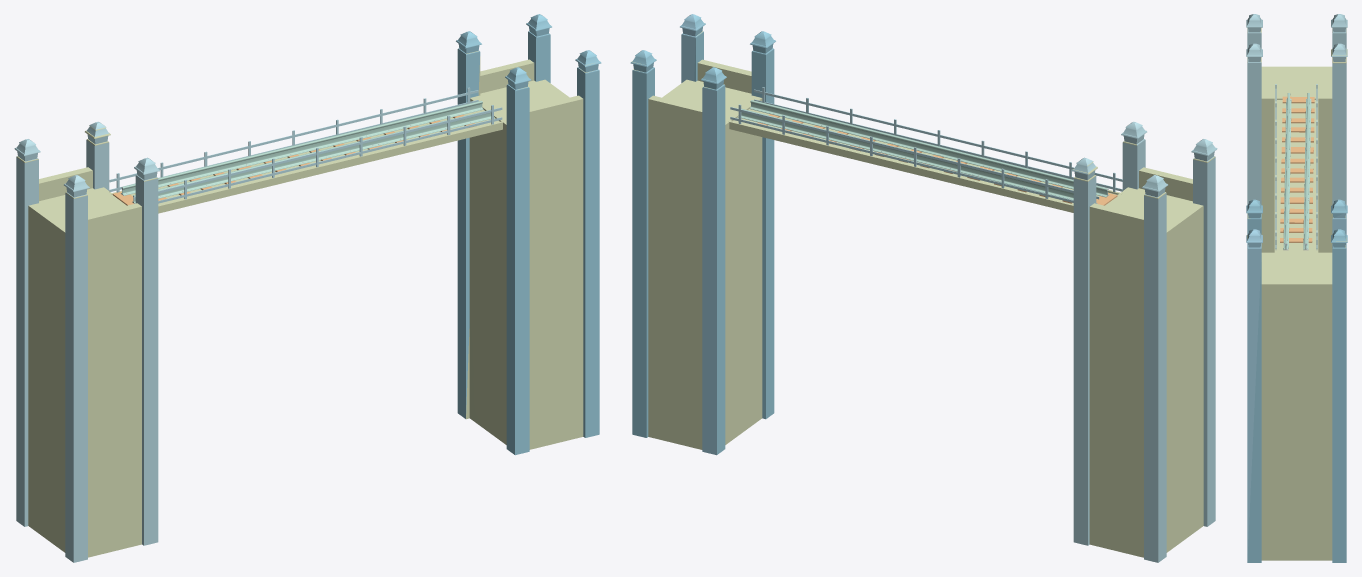
The model's file is aPuenteF.obj.
3 views of the same model, side by side, from view 1: azimuth 30°, elevation 25°; view 2: azimuth 150°, elevation 25°; view 3: azimuth 270°, elevation 25° (orthographic). The views are drawn at different scales.
Parts seen in each view (by area): view 1: pCube2206, pCube2207, pCube50, bridge1, group_3.011, group_3.003, group_3.007, group_2.011, group_2.003, group_2.007; view 2: pCube2206, pCube2207, pCube50, bridge1, group_2.011, group_2.003, group_2.007, group_3.011, group_3.003, group_3.007; view 3: pCube2207, pCube2206, bridge1, pCube50, group_2.011, group_3.011, group_2.003, group_2.007, group_3.003, group_3.007, box.006, box.011 (+1 smaller).
Part boxes in pixels (box(x1,y1,x2,y2)): pCube2206: box(14, 121, 159, 562); pCube2207: box(456, 14, 601, 455); pCube50: box(109, 87, 502, 203); bridge1: box(110, 110, 503, 213); group_3.011: box(362, 100, 483, 138); group_3.003: box(242, 129, 363, 166); group_3.007: box(121, 158, 243, 195); group_2.011: box(373, 109, 494, 146); group_2.003: box(253, 138, 374, 175); group_2.007: box(133, 166, 254, 203); pCube2206: box(1072, 121, 1217, 562); pCube2207: box(630, 14, 775, 455); pCube50: box(730, 87, 1122, 202); bridge1: box(728, 109, 1122, 212); group_2.011: box(749, 100, 870, 138); group_2.003: box(868, 129, 988, 167); group_2.007: box(987, 159, 1108, 197); group_3.011: box(738, 108, 858, 146); group_3.003: box(856, 138, 976, 176); group_3.007: box(976, 169, 1096, 203); pCube2207: box(1246, 199, 1347, 562); pCube2206: box(1246, 14, 1347, 252); bridge1: box(1274, 98, 1318, 252); pCube50: box(1275, 84, 1317, 249); group_2.011: box(1283, 193, 1289, 249); group_3.011: box(1303, 193, 1309, 249); group_2.003: box(1284, 143, 1290, 199); group_2.007: box(1285, 93, 1291, 148); group_3.003: box(1304, 143, 1310, 199); group_3.007: box(1305, 93, 1311, 149); box.006: box(1282, 96, 1314, 103); box.011: box(1280, 197, 1312, 203).
Bounding box in the file's own units: 159 × 110 × 30.61.
